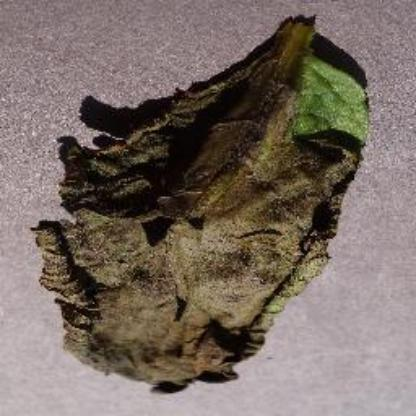Late-Blight: (22, 37, 396, 394)
